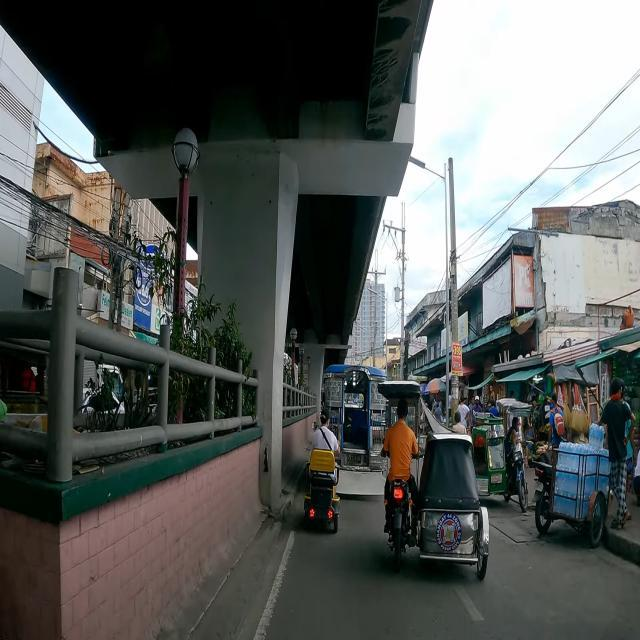jeepney: (322, 363, 389, 494)
tricycle: (377, 380, 491, 582), (471, 398, 532, 512)
